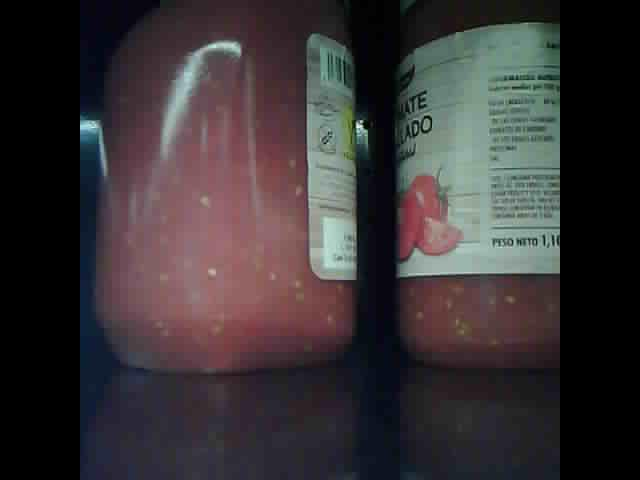tomate: (92, 7, 358, 375), (394, 7, 561, 371)
